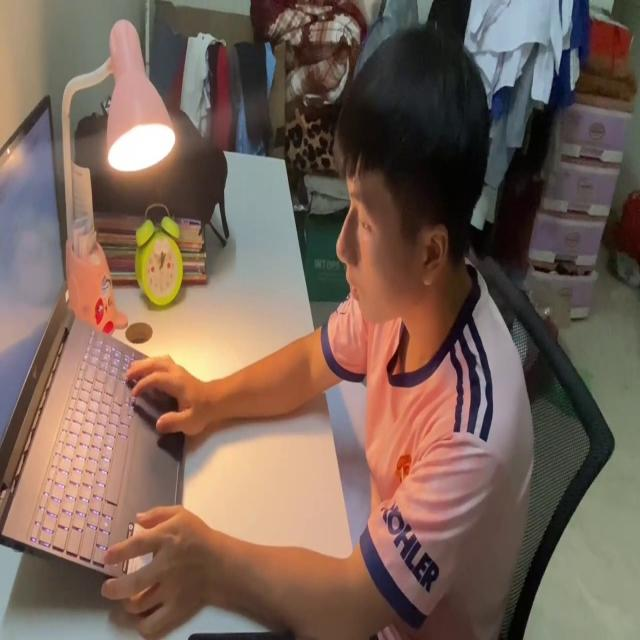book: (322, 376, 372, 549)
laptop: (1, 89, 186, 612)
student: (101, 15, 535, 640)
